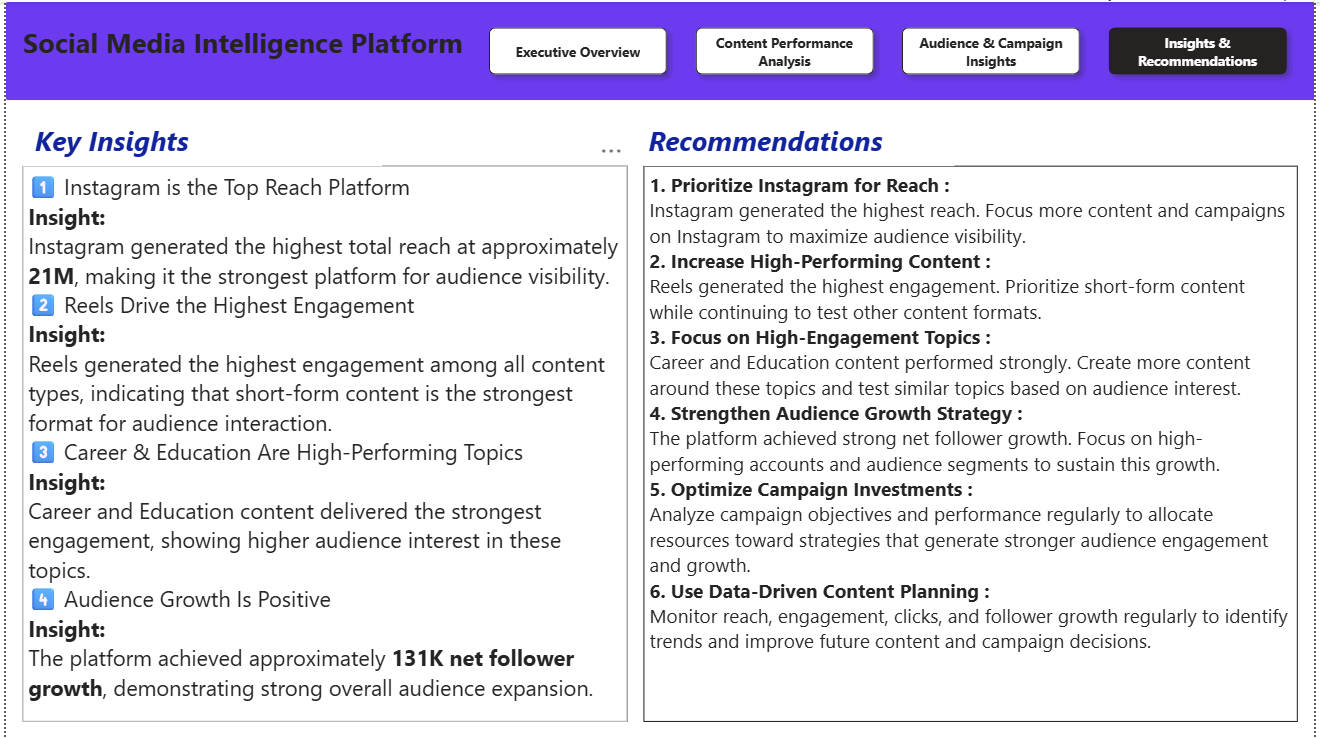

The dashboard page shown, as its layout file describes it:
{"tool":"powerbi","page":{"name":"Insights & Recommendations","canvas":[1280,720],"ordinal":3},"visuals":[{"type":"shape","box":[0,0,1280,96],"z":0},{"type":"textbox","box":[0,16,464,64],"z":1000},{"type":"pageNavigator","box":[464,16,800,64],"z":2000},{"type":"textbox","box":[16,160,592,544],"z":3000},{"type":"textbox","box":[16,112,352,48],"z":4000},{"type":"textbox","box":[624,160,640,544],"z":4001},{"type":"textbox","box":[624,112,304,48],"z":4002}]}

Visuals, with their boxes in screenshot pixels (x1, y1, x2, y2), scaled from the page's 1280x720 canvas onto the 1320x738 screenshot:
shape: left=0, top=0, right=1319, bottom=98
textbox: left=0, top=16, right=478, bottom=82
pageNavigator: left=478, top=16, right=1304, bottom=82
textbox: left=16, top=164, right=627, bottom=722
textbox: left=16, top=115, right=380, bottom=164
textbox: left=644, top=164, right=1304, bottom=722
textbox: left=644, top=115, right=957, bottom=164
